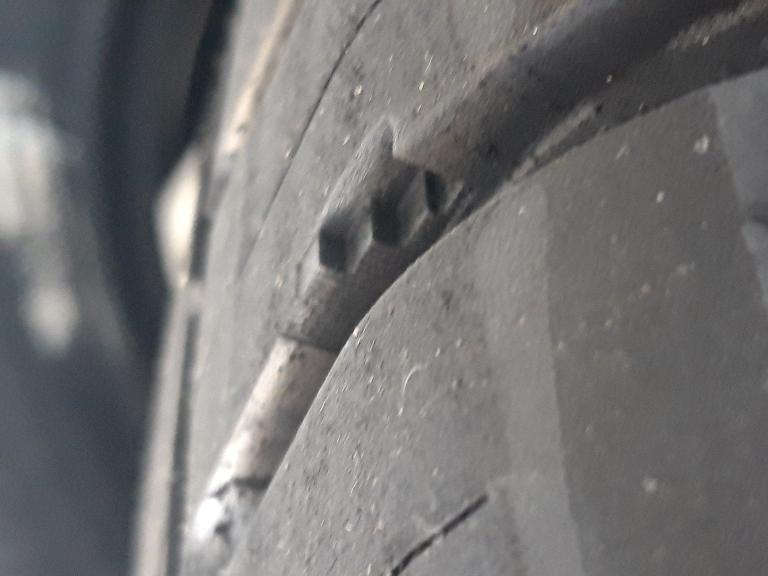temoin:75: (287, 105, 483, 314)
